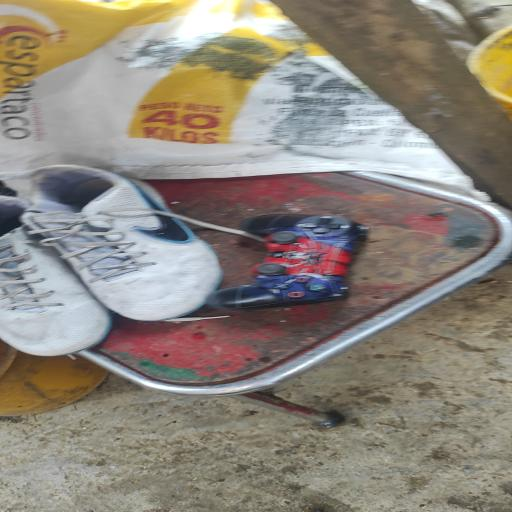ControlPlay4: (208, 214, 367, 311)
